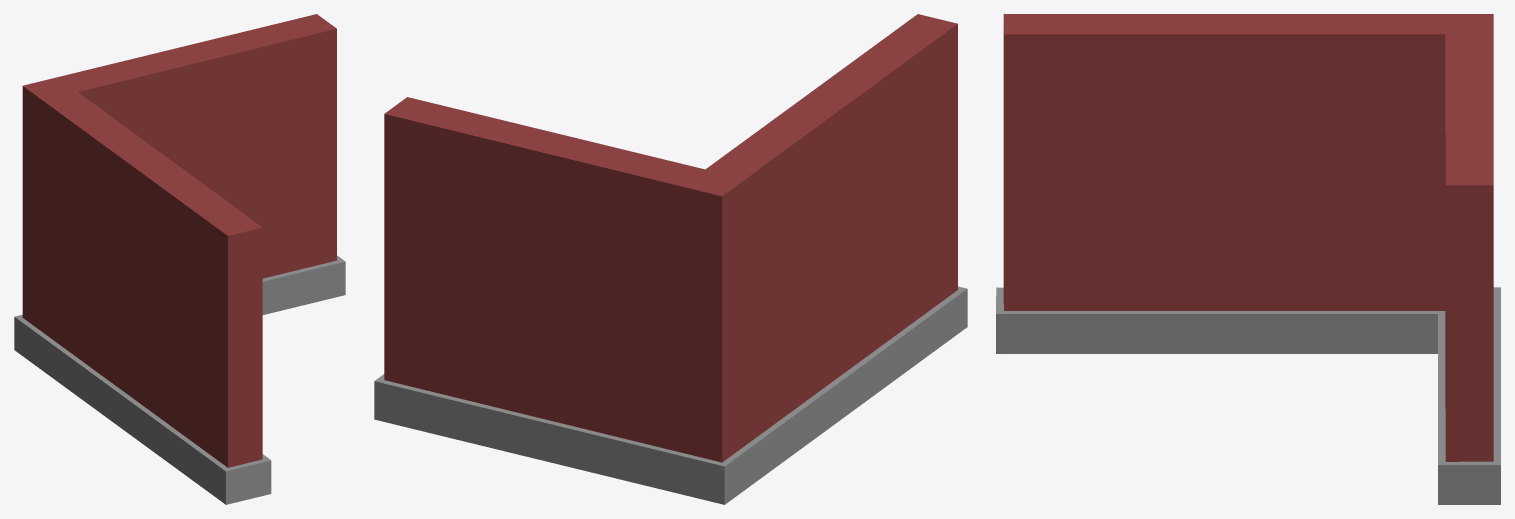
Rendered from qiang08.FBX.
3 views of the same model, side by side, from view 1: azimuth 30°, elevation 25°; view 2: azimuth 150°, elevation 25°; view 3: azimuth 270°, elevation 25° (orthographic). The views are drawn at different scales.
Visible parts, largest first — view 1: 08; view 2: 08; view 3: 08.
Boxes of the visible parts, x1,y1,x2,y2 form: 08: (14,14,345,504); 08: (374,14,967,504); 08: (996,14,1500,504).
Size of the model in its own units: 390 by 324 by 469.
